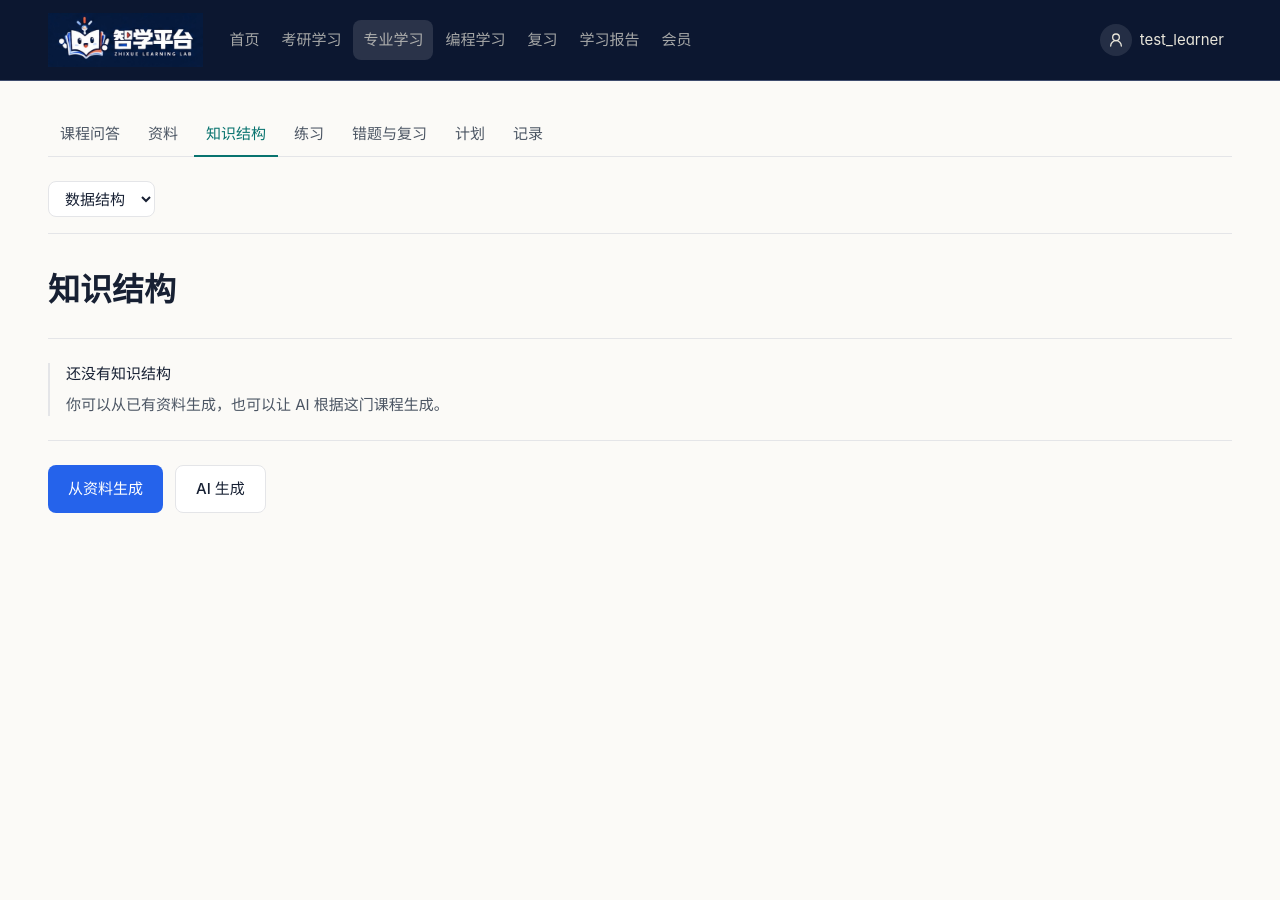
Test case: an empty knowledge structure › lists this course’s own materials to choose from
Step 1. Click the button "从资料生成" → (106, 489), box [48, 465, 163, 513]
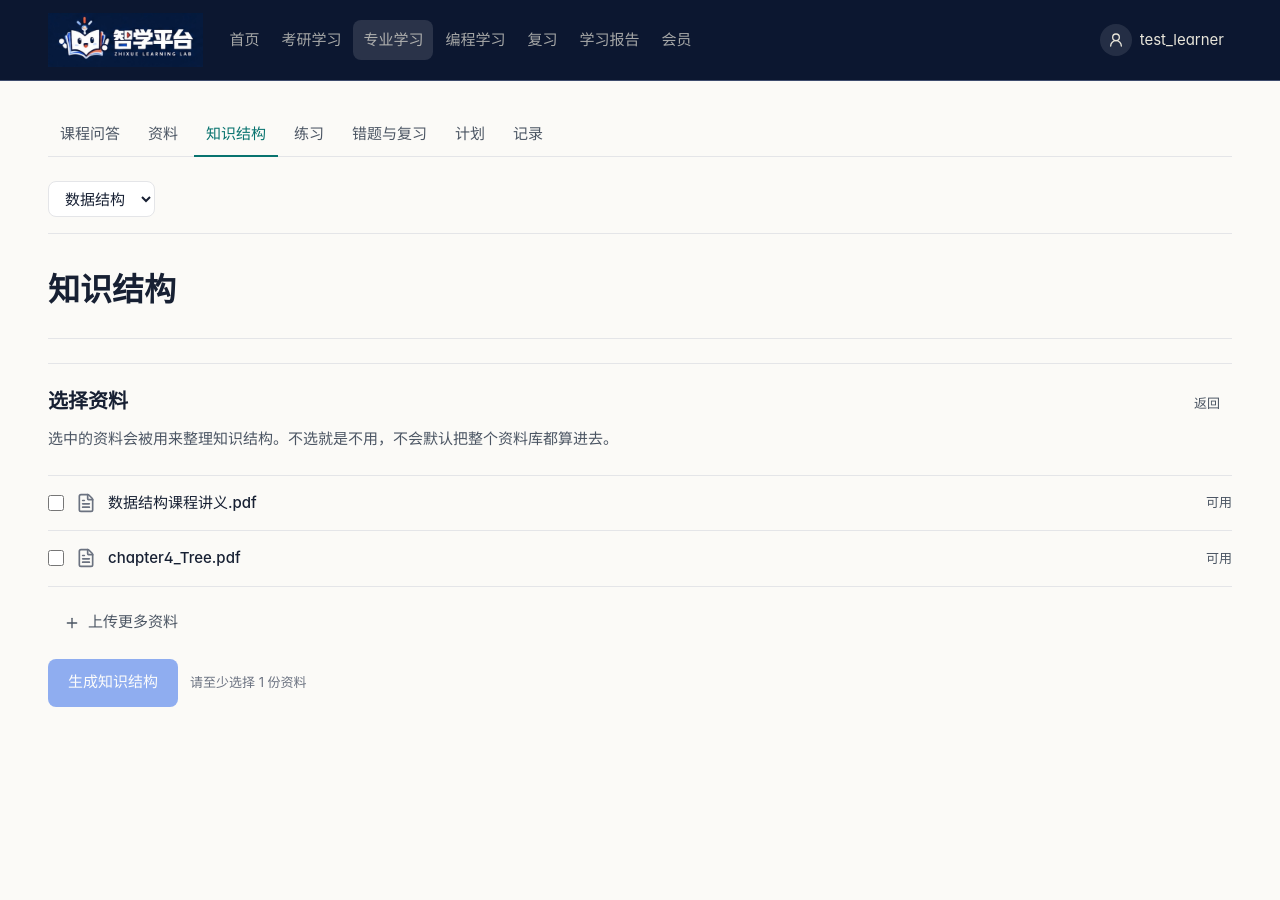
Now the number of checkboxes is 2, box [48, 495, 64, 511]; [48, 550, 64, 566]
Now the text "数据结构课程讲义.pdf" is shown, box [108, 492, 257, 512]
Now the text "chapter4_Tree.pdf" is shown, box [108, 548, 241, 567]
